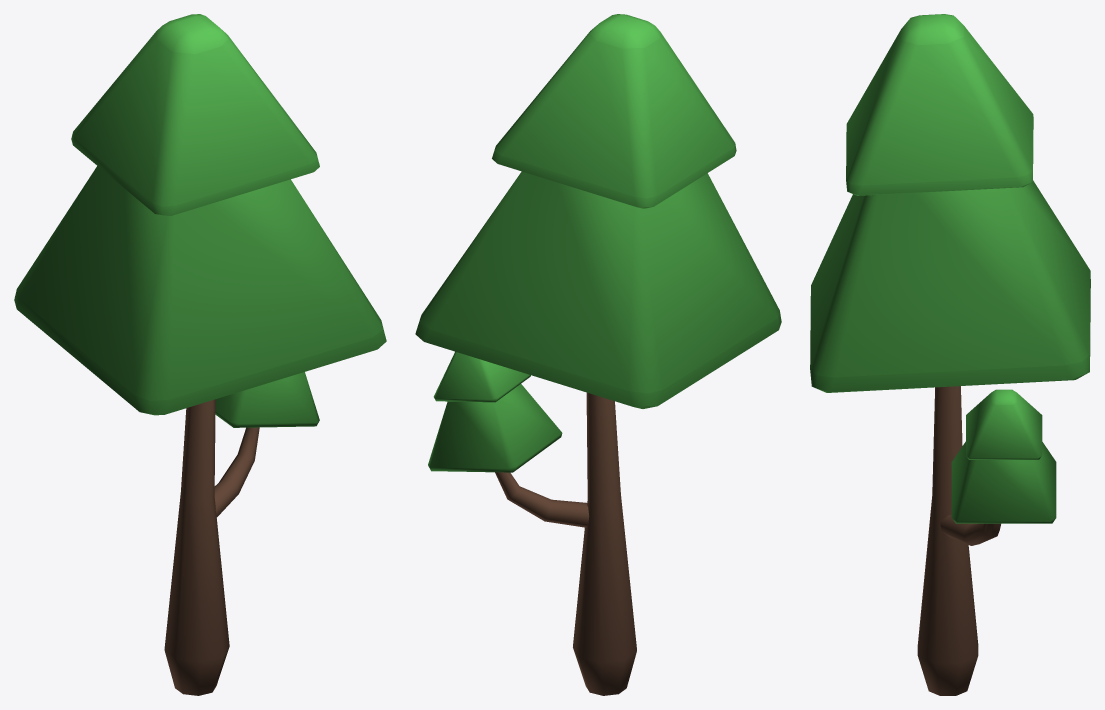
Rendered from tree_pine_1.glb.
3 renders of one model, left to right at view 1: azimuth 30°, elevation 25°; view 2: azimuth 150°, elevation 25°; view 3: azimuth 270°, elevation 25°, orthographic.
Parts seen in each view (by area): view 1: tree_pine_1; view 2: tree_pine_1; view 3: tree_pine_1.
Part boxes in pixels (x1,y1,x2,y2): tree_pine_1: (14,14,386,695); tree_pine_1: (415,14,781,695); tree_pine_1: (810,14,1090,695).
Size of the model in its own units: 3.04 by 8 by 3.04.
